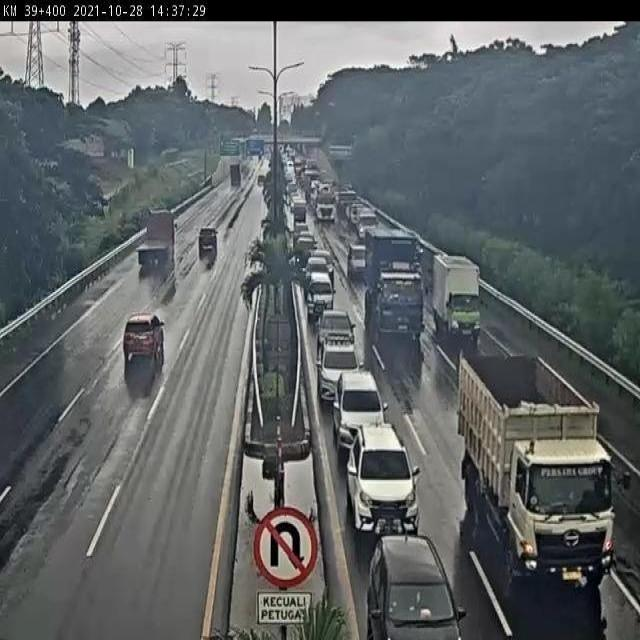Car: (364, 532, 466, 638), (344, 419, 422, 543), (332, 369, 386, 452), (317, 334, 361, 404), (123, 312, 167, 361), (316, 304, 354, 356), (305, 271, 335, 319), (348, 242, 368, 282)
Truck: (454, 350, 634, 592), (364, 225, 429, 343), (433, 254, 488, 343), (136, 208, 178, 266), (368, 230, 418, 273), (314, 186, 336, 223), (198, 227, 218, 257), (230, 161, 242, 186)
